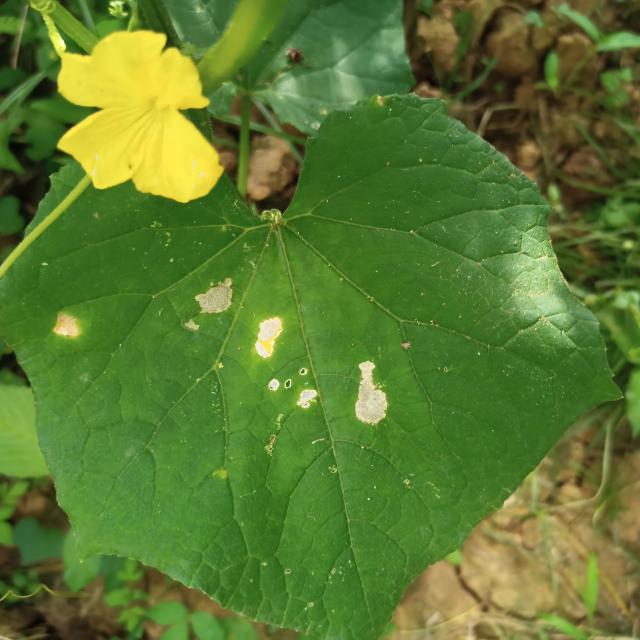disease_cucumber: (183, 275, 388, 426), (52, 308, 81, 341)
